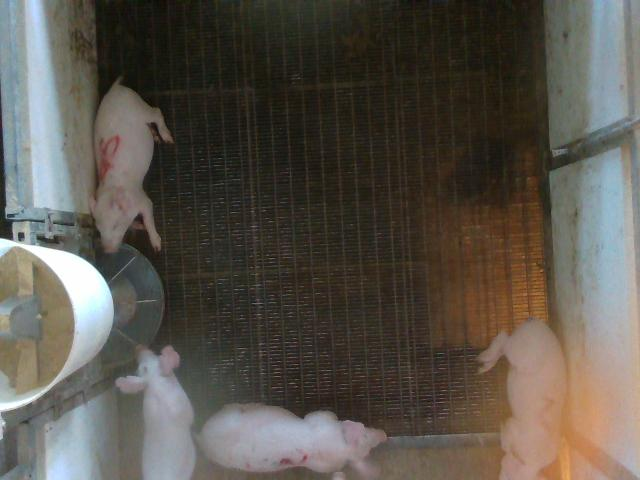pig-2: (476, 318, 566, 478)
pig-3: (198, 404, 386, 474)
pig-5: (90, 78, 174, 252)
